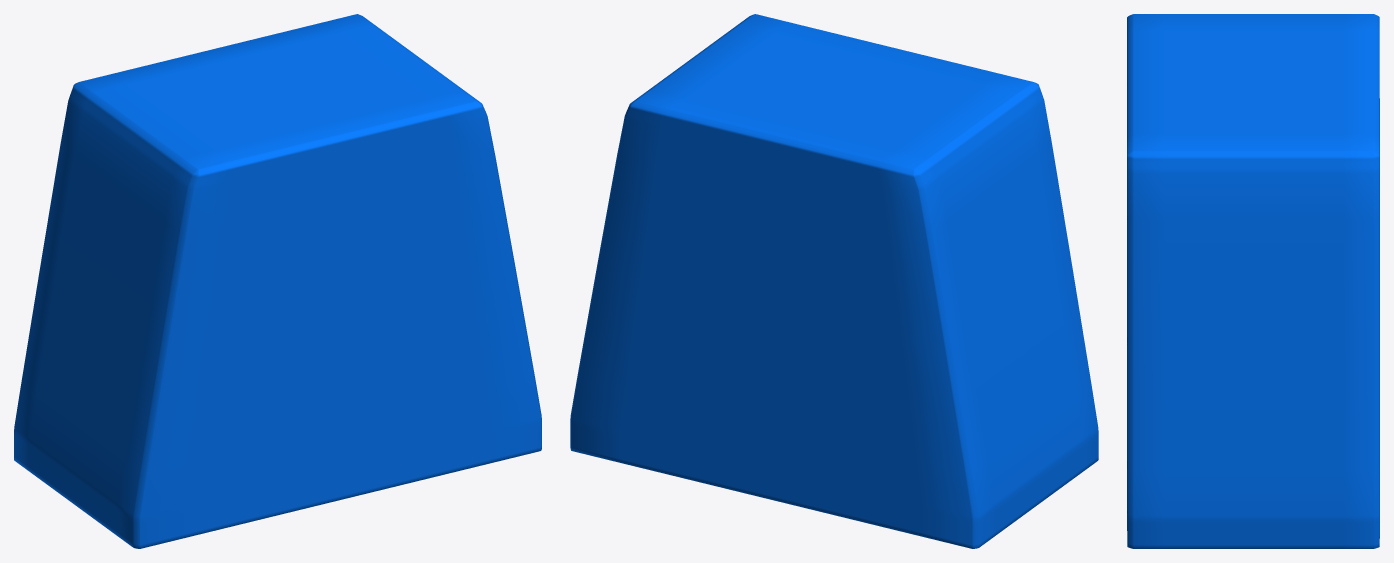
File: buste.obj
The picture shows the model from 3 angles, left to right: view 1: azimuth 30°, elevation 25°; view 2: azimuth 150°, elevation 25°; view 3: azimuth 270°, elevation 25°; orthographic projection.
Parts seen in each view (by area): view 1: buste; view 2: buste; view 3: buste.
Boxes of the visible parts, box(x1,y1,x2,y2) form: buste: box(14, 14, 541, 548); buste: box(570, 14, 1098, 548); buste: box(1127, 14, 1379, 548).
Bounding box in the file's own units: 1.14 × 0.9682 × 0.603.
Materials: 1 (1 with a texture image).
